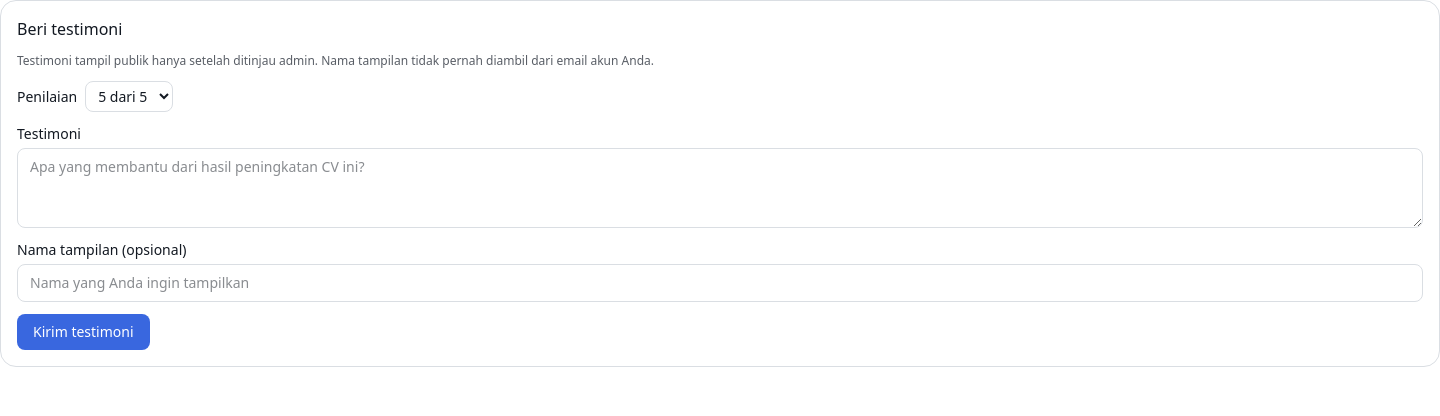
Test case: TestimonialsPage › validates the review before sending it
The width and height of the screenshot is (1440, 416).
Type "pendek" into the text box labelled "Testimoni".
click(720, 188); type("pendek")  # box top-left (17, 148), bottom-right (1423, 228)
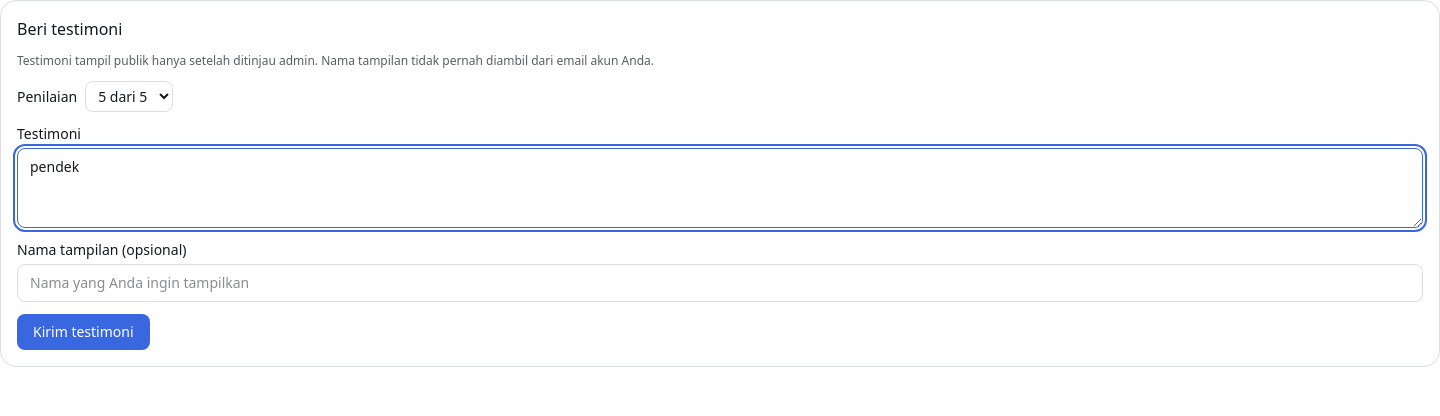
Click the button "Kirim testimoni".
click(83, 332)  # box top-left (17, 314), bottom-right (150, 350)
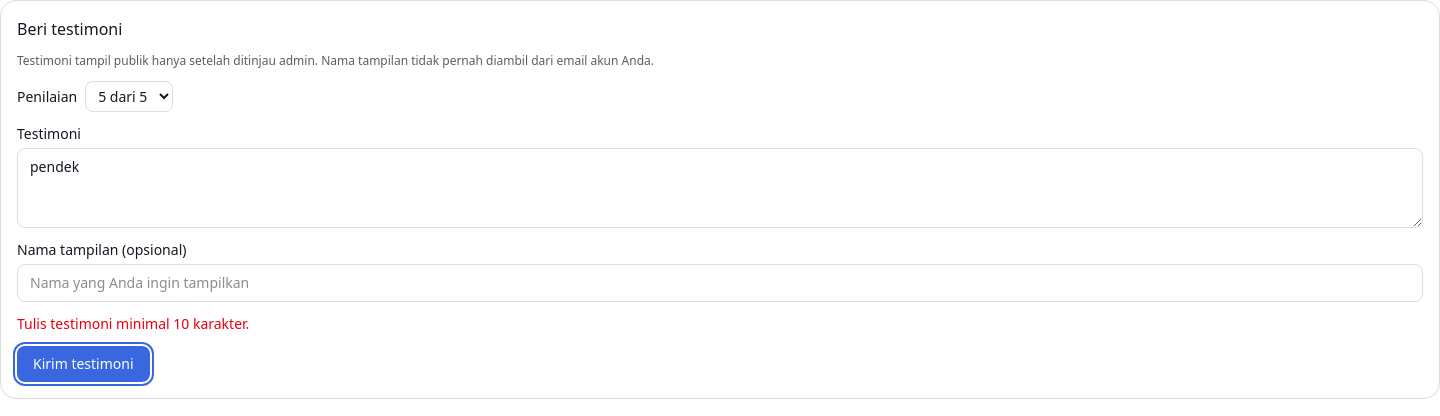
Expected: the message shows "minimal 10 karakter", top-left (17, 314), bottom-right (249, 333)
